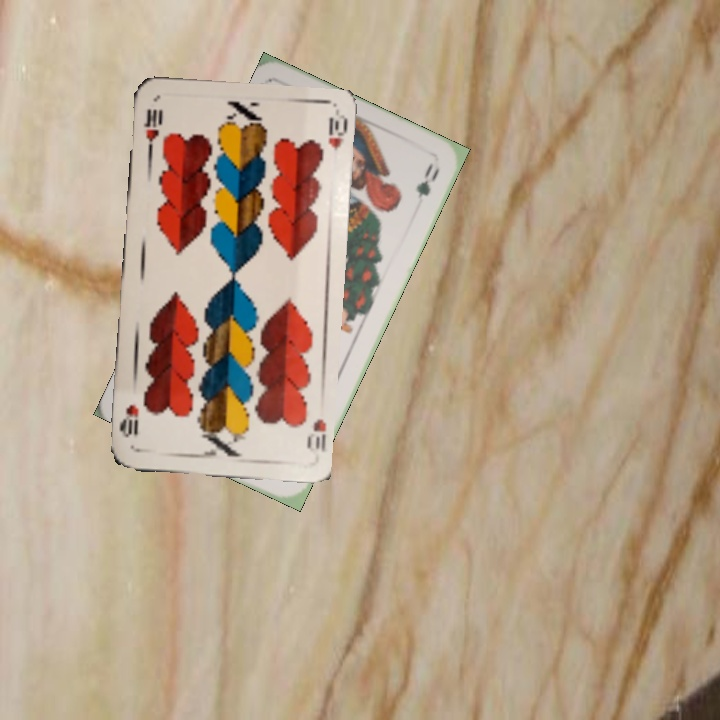H10: (140, 104, 164, 158), (303, 415, 329, 454)
